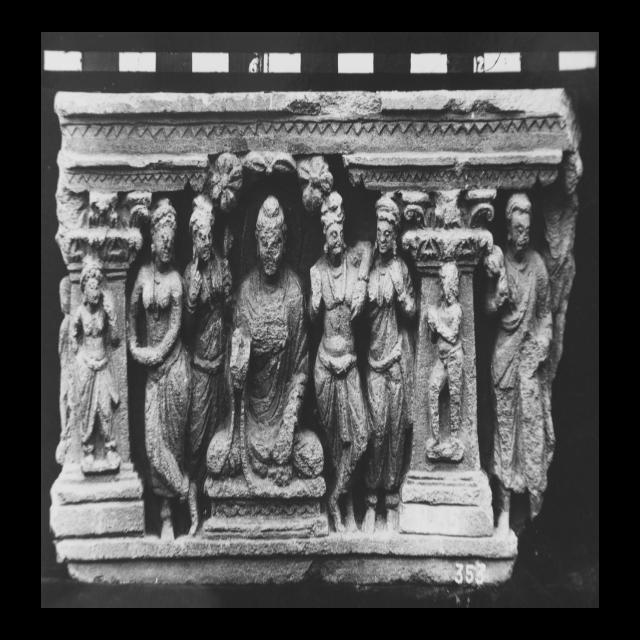buddha-sitting: (208, 196, 322, 494)
